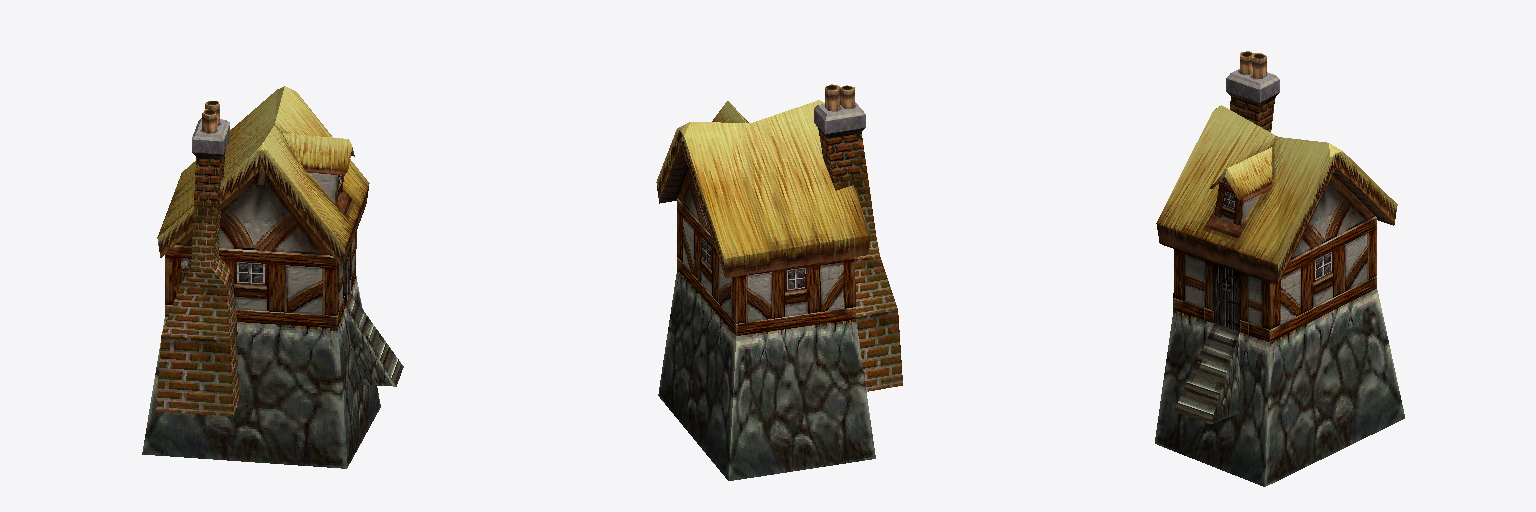
The picture shows the model from 3 angles: view 1: azimuth 30°, elevation 25°; view 2: azimuth 150°, elevation 25°; view 3: azimuth 270°, elevation 25°; orthographic projection.
Parts seen in each view (by area): view 1: Converted_object_1(m0); view 2: Converted_object_1(m0); view 3: Converted_object_1(m0).
Part boxes in pixels (bbox=[...]): Converted_object_1(m0): bbox=[142, 86, 403, 468]; Converted_object_1(m0): bbox=[656, 84, 902, 480]; Converted_object_1(m0): bbox=[1155, 51, 1404, 486].
Size of the model in its own units: 6.61 by 9.35 by 6.11.
1 materials, 1 textured.